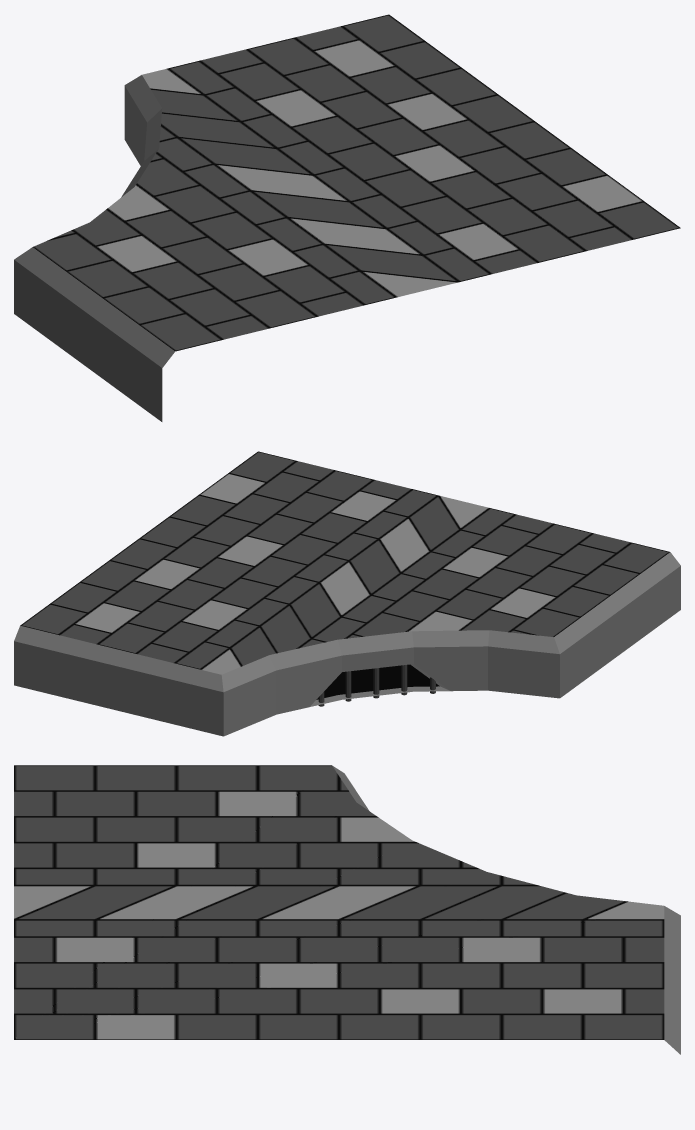
File: Internal_round_sidewalk.fbx
The picture shows the model from 3 angles, top to bottom: view 1: azimuth 30°, elevation 25°; view 2: azimuth 150°, elevation 25°; view 3: azimuth 270°, elevation 25°; orthographic projection. The views are drawn at different scales.
Visible parts, largest first — view 1: Esquina redonda interna; view 2: Esquina redonda interna; view 3: Esquina redonda interna.
Boxes of the visible parts, x1=… form: Esquina redonda interna: x1=14, y1=14, x2=680, y2=421; Esquina redonda interna: x1=14, y1=451, x2=680, y2=736; Esquina redonda interna: x1=14, y1=765, x2=680, y2=1054.
Size of the model in its own units: 800 by 106 by 800.
